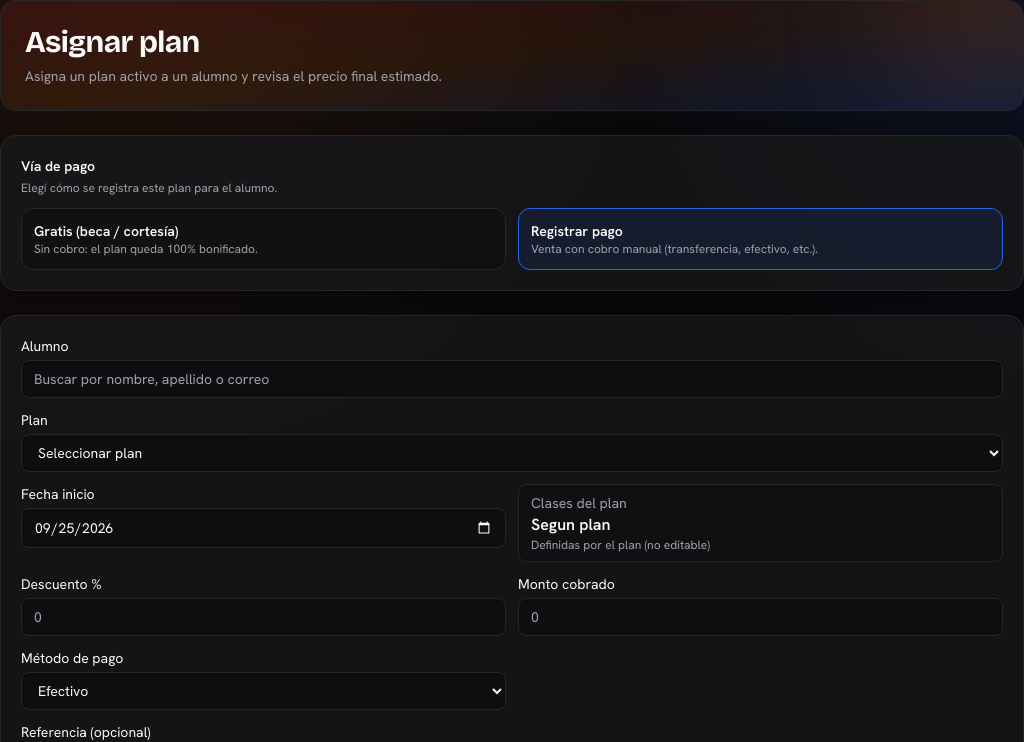
it: AssignPlanPage - buscador de alumnos › busca alumnos server-side por correo
Type "javier@test.local" into the search field labelled "Alumno" at (512, 379), box left=21, top=360, right=1003, bottom=398
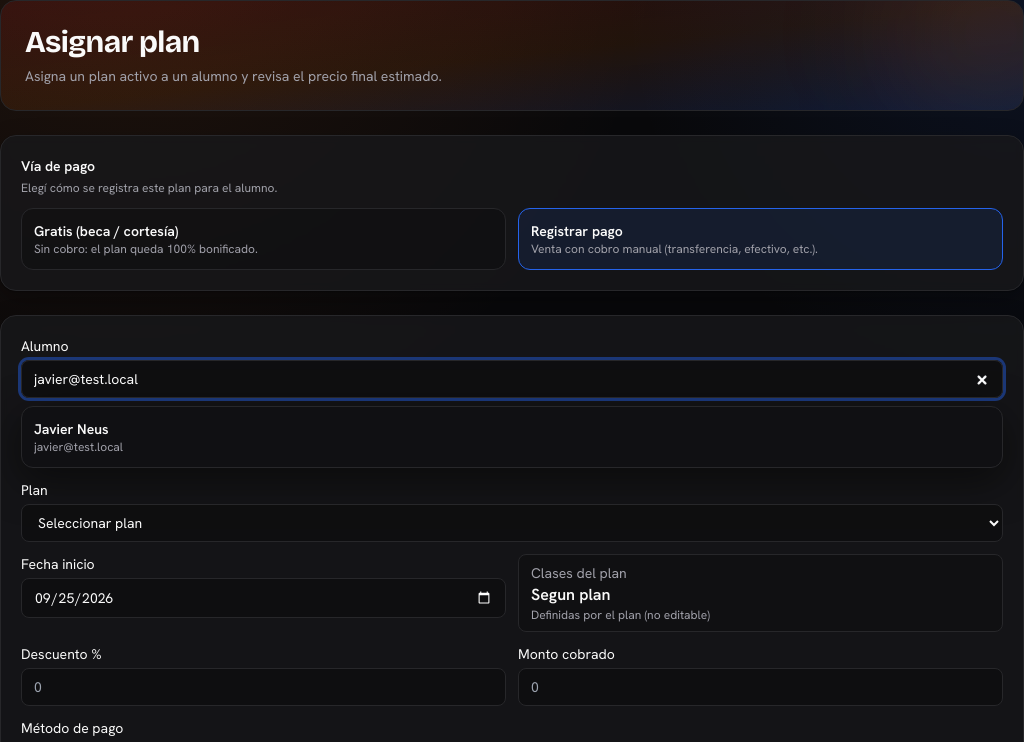
Expected: the text "Javier Neus" is shown, left=34, top=420, right=109, bottom=438
Expected: the text "javier@test.local" is shown, left=34, top=439, right=123, bottom=455
